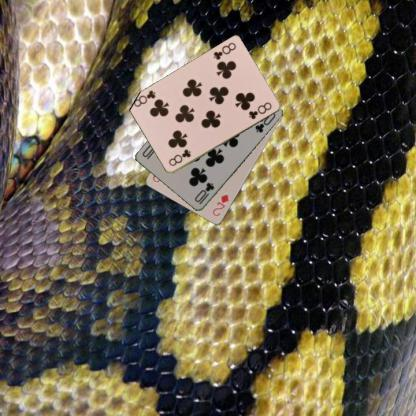10c: (192, 180, 215, 206)
2d: (210, 190, 230, 218)
8c: (166, 146, 192, 168), (211, 40, 237, 61)
